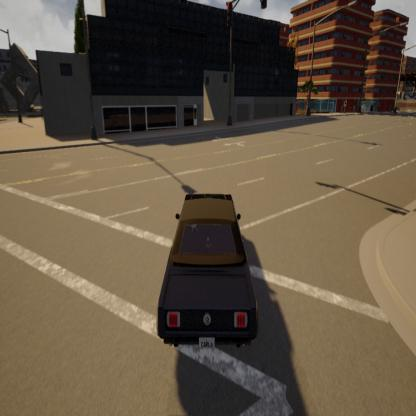Cars: (156, 182, 262, 355)
